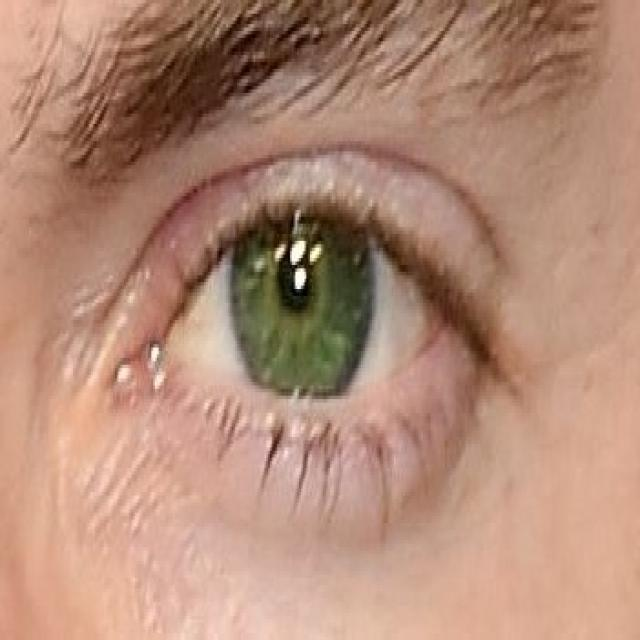Normal: (231, 174, 373, 417)
